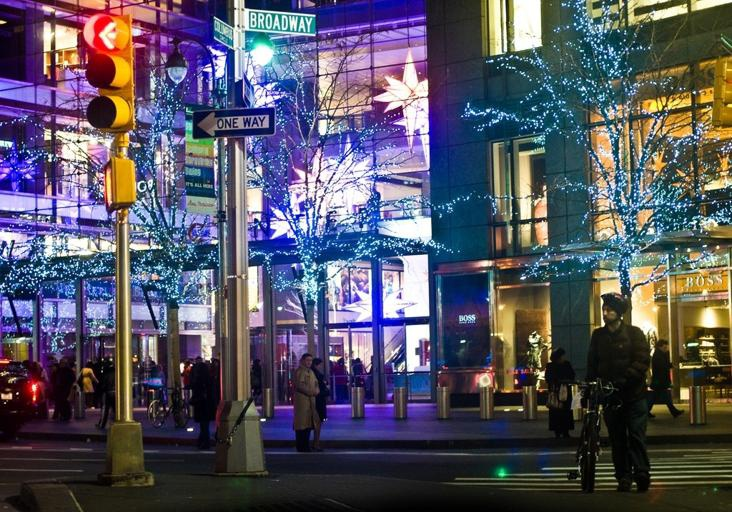non-vehicle: (561, 378, 624, 491), (148, 385, 191, 427)
